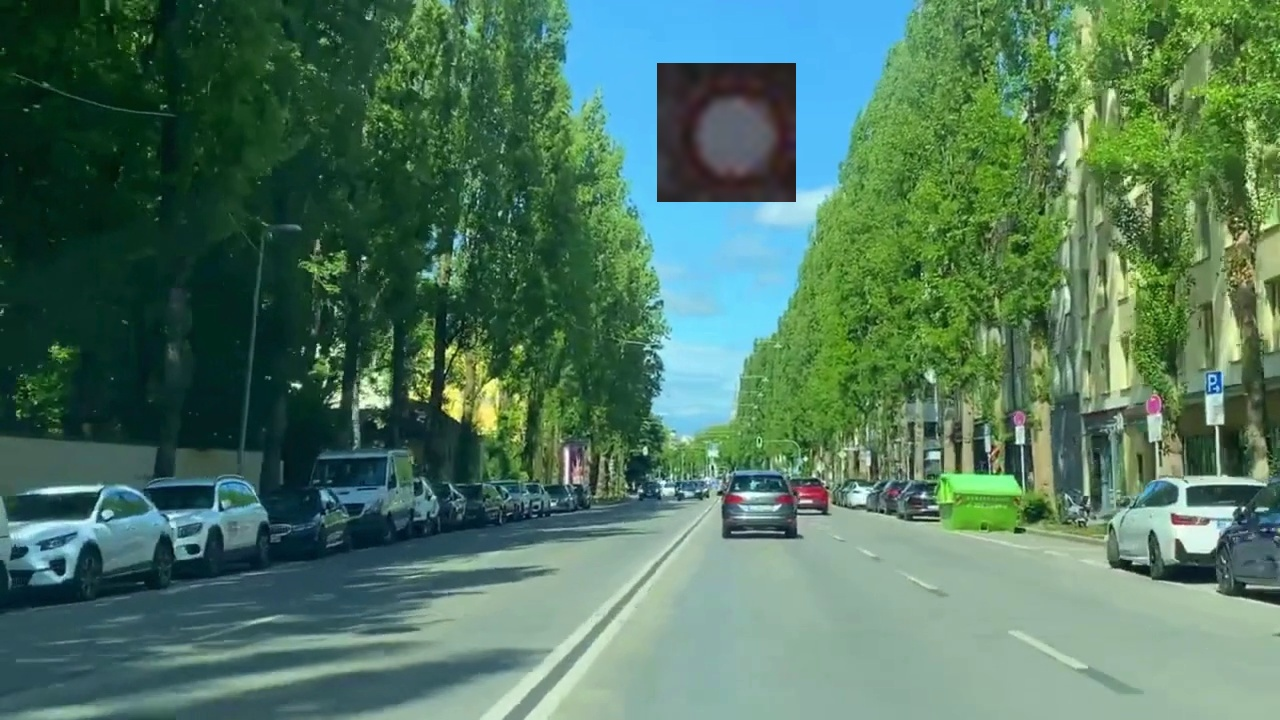No vehicles: (657, 63, 796, 202)
